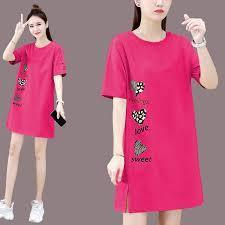dress: (100, 26, 204, 212), (5, 38, 67, 140)
